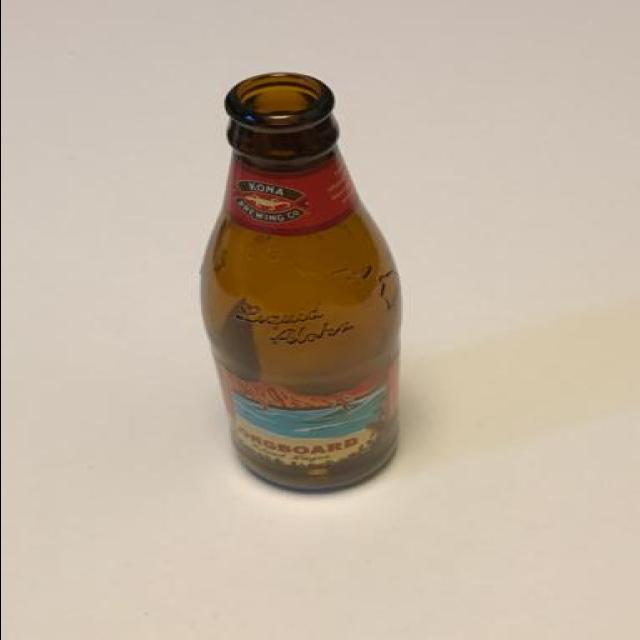litter: (194, 71, 402, 498)
